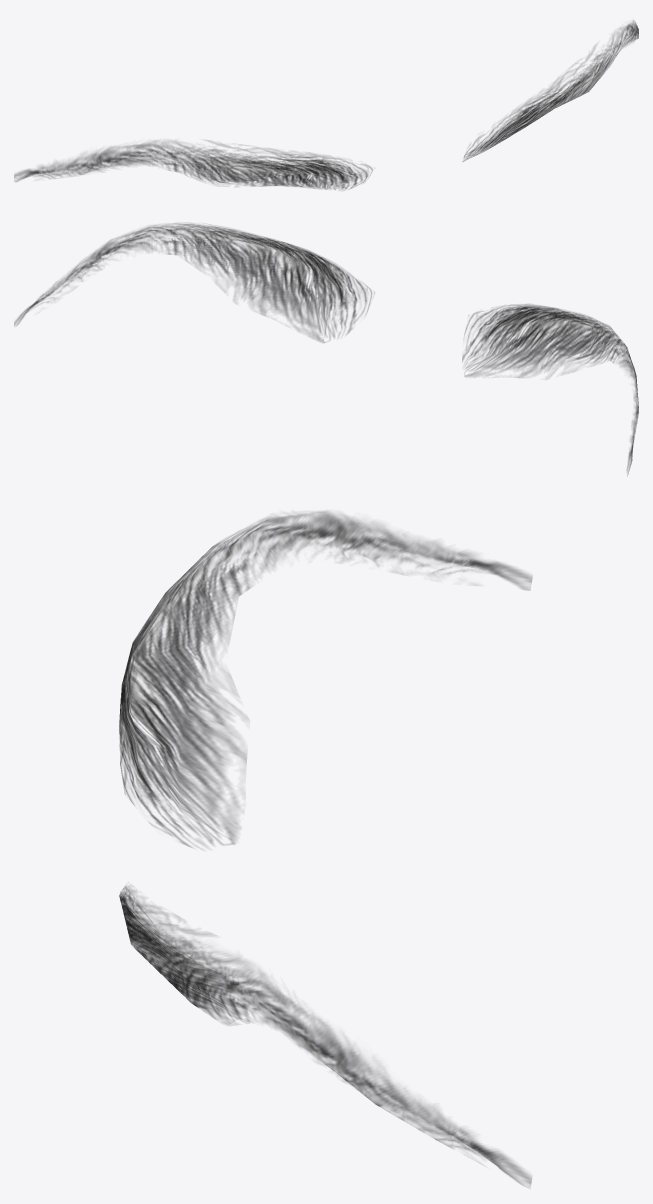
File: brows_eyebrow008.gltf
3 renders of one model, top to bottom at view 1: azimuth 30°, elevation 25°; view 2: azimuth 150°, elevation 25°; view 3: azimuth 270°, elevation 25°, orthographic. The views are drawn at different scales.
Parts seen in each view (by area): view 1: brows_eyebrow008; view 2: brows_eyebrow008; view 3: brows_eyebrow008.
Boxes of the visible parts, x1=… form: brows_eyebrow008: x1=14, y1=19, x2=638, y2=190; brows_eyebrow008: x1=14, y1=223, x2=638, y2=475; brows_eyebrow008: x1=119, y1=511, x2=532, y2=1186.
Size of the model in its own units: 0.1092 by 0.015 by 0.032.
1 material, 1 textured.
